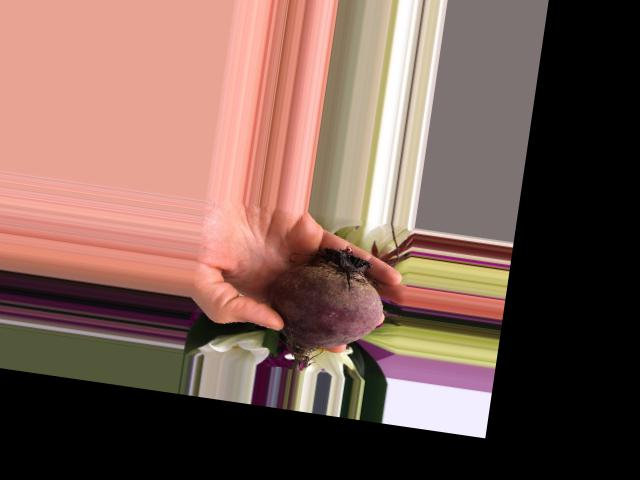beet: (260, 236, 392, 381)
